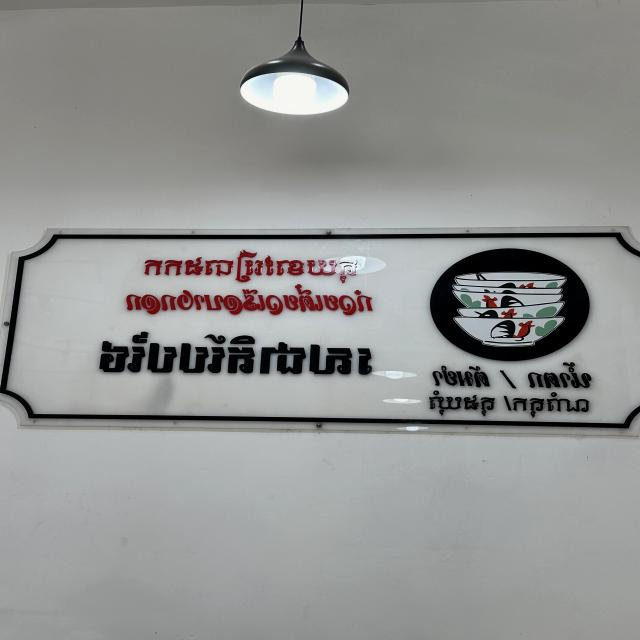Yolov11_80vkh: (89, 326, 384, 391), (133, 248, 370, 287), (422, 391, 600, 423)
